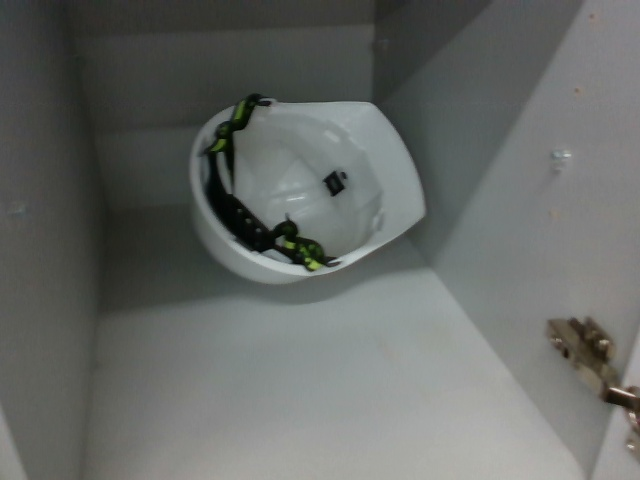helmet: (182, 92, 432, 292)
